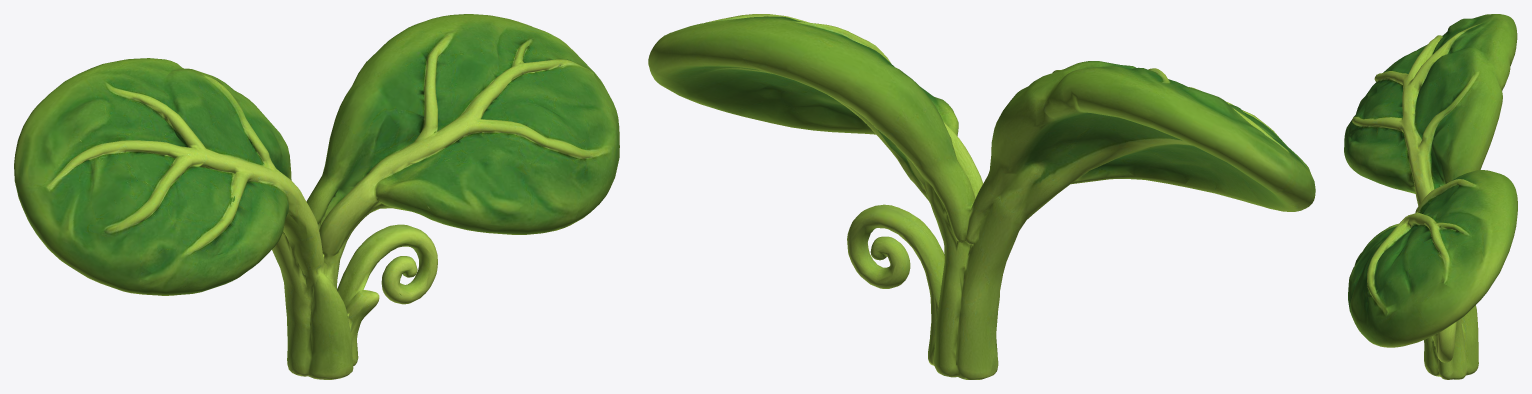
The model's file is pumpkin-sprout.glb.
3 views of the same model, side by side, from view 1: azimuth 30°, elevation 25°; view 2: azimuth 150°, elevation 25°; view 3: azimuth 270°, elevation 25° (orthographic). The views are drawn at different scales.
Size of the model in its own units: 1.9 by 1.02 by 0.5909.
Materials: 1 (1 with a texture image).
